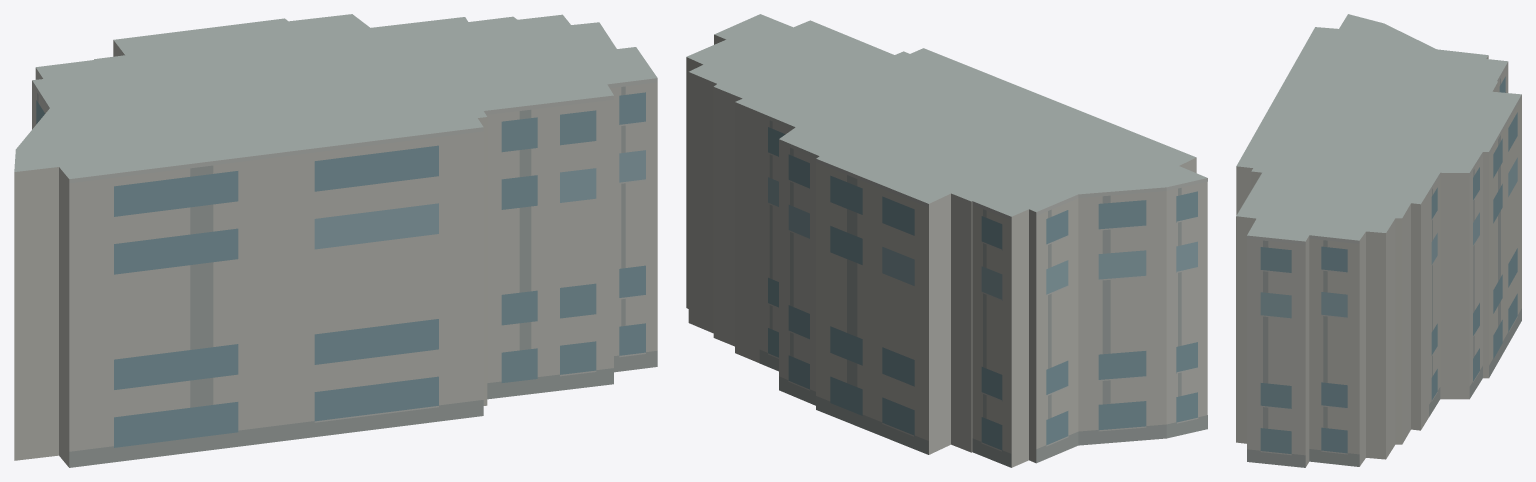
File: survey-upis-33032558.glb
3 renders of one model, left to right at view 1: azimuth 30°, elevation 25°; view 2: azimuth 150°, elevation 25°; view 3: azimuth 270°, elevation 25°, orthographic. The views are drawn at different scales.
Visible parts, largest first — view 1: survey-upis-33032558.tmp; view 2: survey-upis-33032558.tmp; view 3: survey-upis-33032558.tmp.
Part boxes in pixels (left/top/right/bottom): survey-upis-33032558.tmp: left=14, top=14, right=657, bottom=467; survey-upis-33032558.tmp: left=686, top=14, right=1207, bottom=467; survey-upis-33032558.tmp: left=1236, top=14, right=1521, bottom=467.
Bounding box in the file's own units: 34.72 × 16.1 × 18.43.
